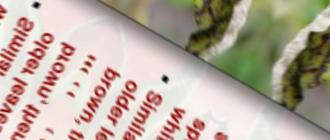Tomato Septoria leaf spot: (121, 0, 291, 67)
